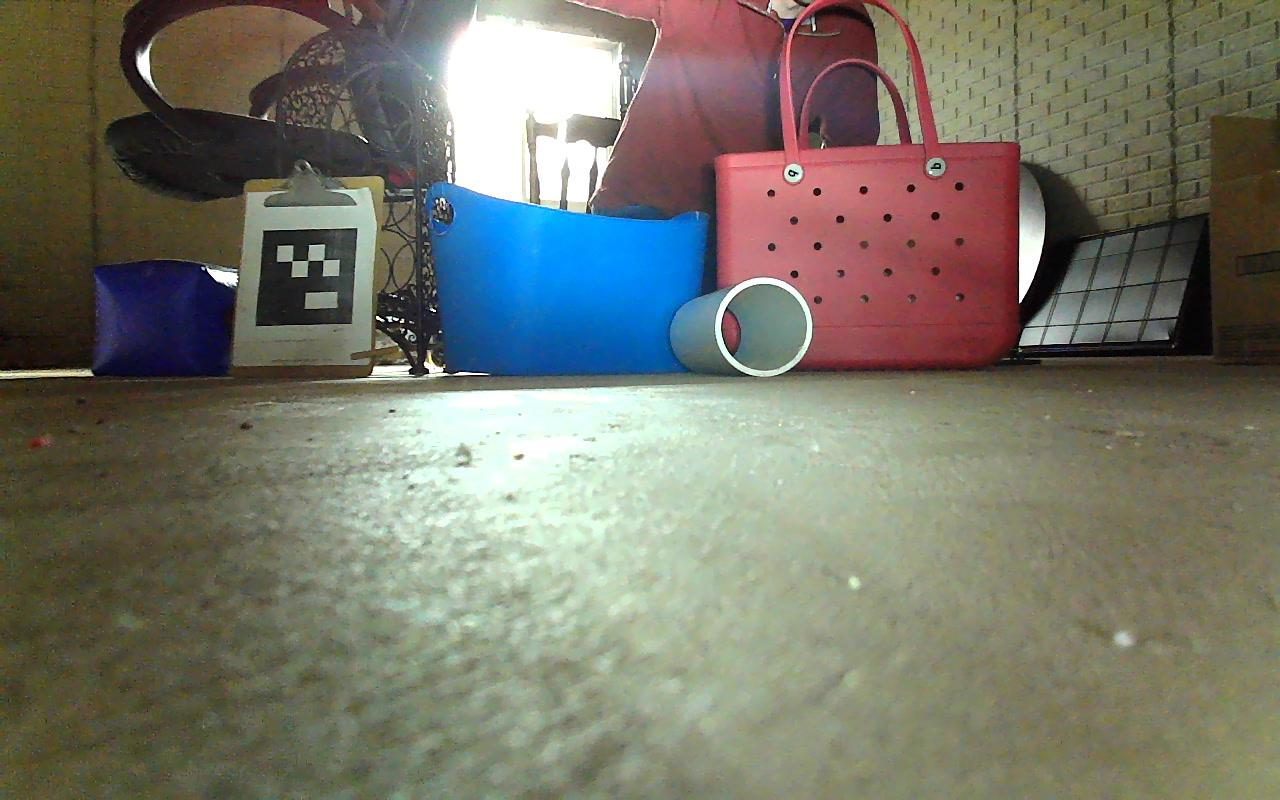coral: (669, 275, 812, 376)
